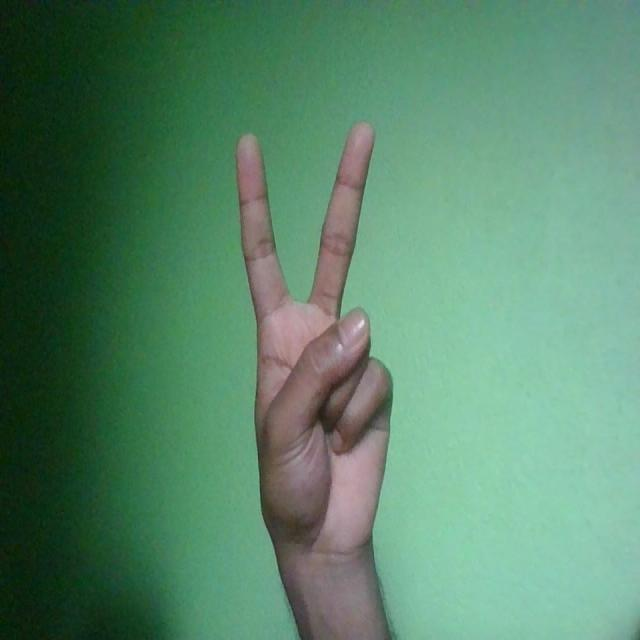Fist: (235, 118, 395, 574)
